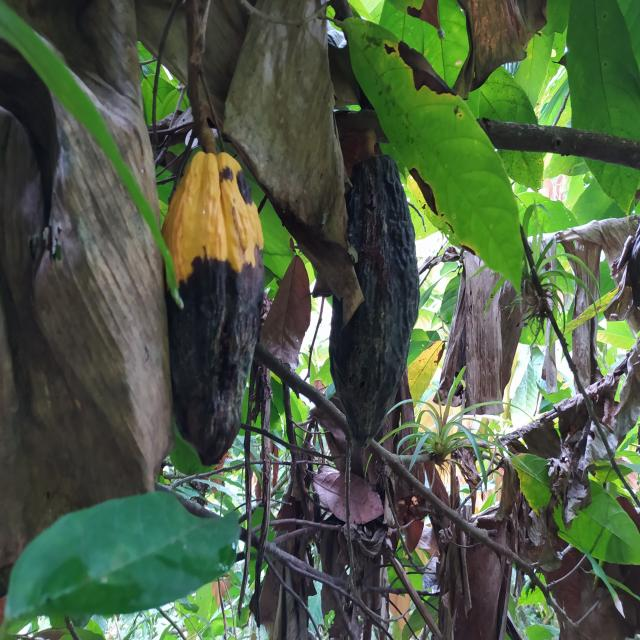Fitoftora: (166, 144, 262, 466), (329, 152, 421, 445)
